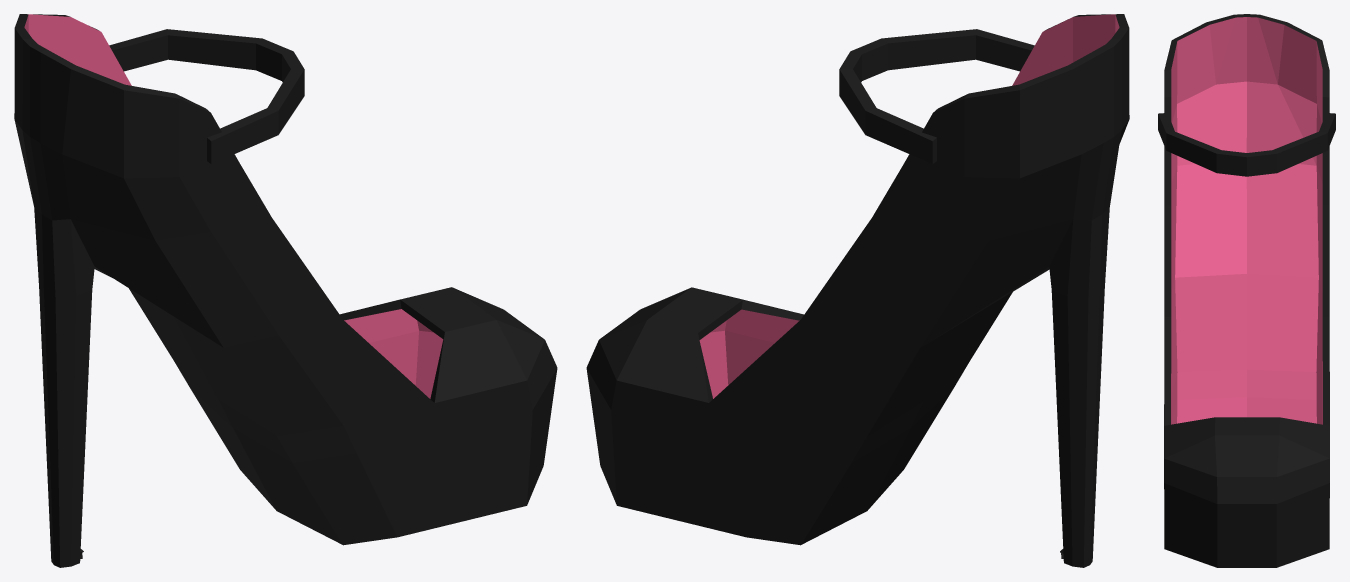
File: shoe.glb
3 views of the same model, side by side, from view 1: azimuth 30°, elevation 25°; view 2: azimuth 150°, elevation 25°; view 3: azimuth 270°, elevation 25° (orthographic). The views are drawn at different scales.
Visible parts, largest first — view 1: Stillettos_Cube.030; view 2: Stillettos_Cube.030; view 3: Stillettos_Cube.030.
Part boxes in pixels (box(x1,y1,x2,y2)): Stillettos_Cube.030: box(14, 14, 557, 567); Stillettos_Cube.030: box(586, 14, 1129, 567); Stillettos_Cube.030: box(1158, 14, 1335, 567).
Bounding box in the file's own units: 9.46 × 9.36 × 3.97.
